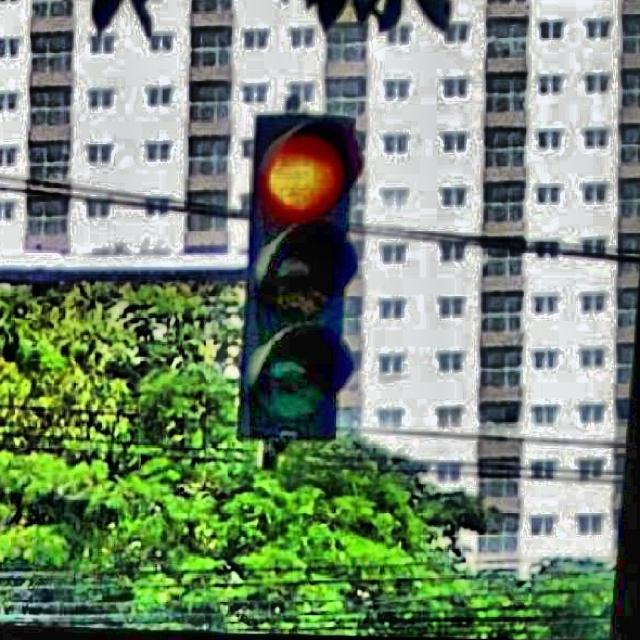red: (236, 114, 358, 448)
